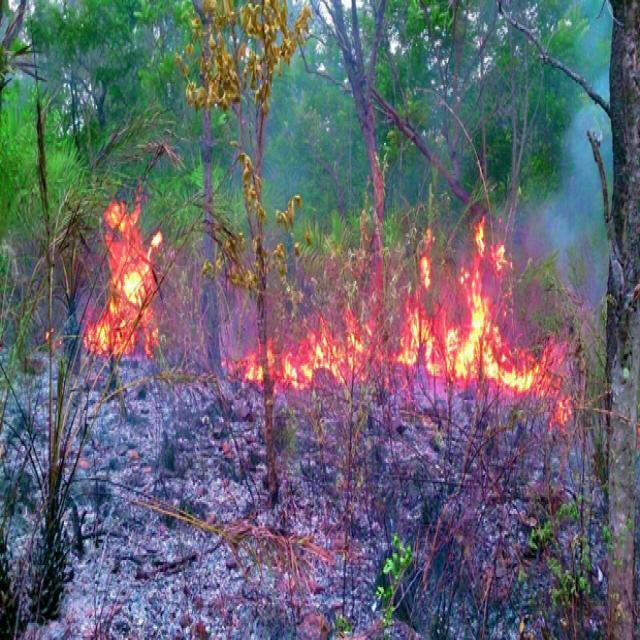Fire: (395, 216, 573, 426), (84, 187, 164, 357), (270, 310, 377, 390), (229, 348, 263, 386), (44, 327, 60, 350)
